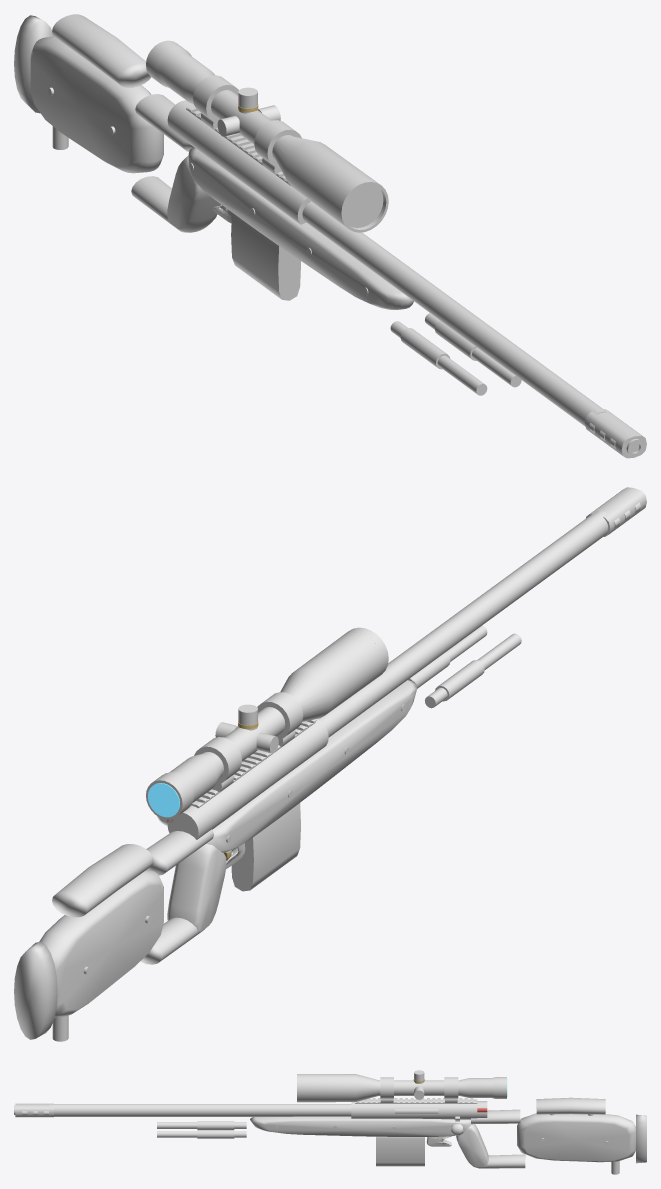
The model's file is Weapon_Sniper.fbx.
The picture shows the model from 3 angles, top to bottom: view 1: azimuth 30°, elevation 25°; view 2: azimuth 150°, elevation 25°; view 3: azimuth 270°, elevation 25°; orthographic projection. The views are drawn at different scales.
Visible parts, largest first — view 1: Weapon_Sniper; view 2: Weapon_Sniper; view 3: Weapon_Sniper.
Boxes of the visible parts, left/top/right/bottom form: Weapon_Sniper: left=14, top=14, right=646, bottom=458; Weapon_Sniper: left=14, top=487, right=646, bottom=1041; Weapon_Sniper: left=14, top=1070, right=646, bottom=1174.
Bounding box in the file's own units: 0.0965 × 1.28 × 0.225.
